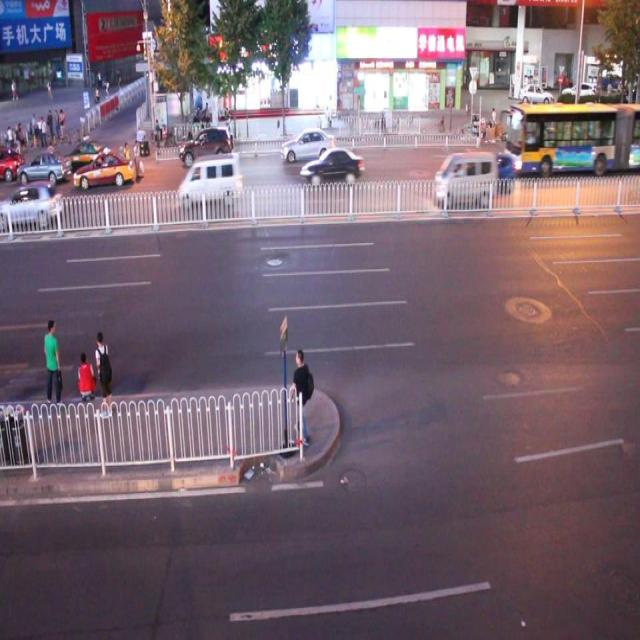car: (1, 182, 63, 228), (302, 147, 362, 186), (179, 124, 233, 166), (73, 153, 133, 188), (281, 127, 335, 165), (17, 153, 71, 184), (63, 137, 110, 172), (476, 154, 513, 192), (0, 145, 22, 182)
truck: (434, 151, 495, 206), (175, 155, 240, 206)
van: (504, 102, 640, 176)
